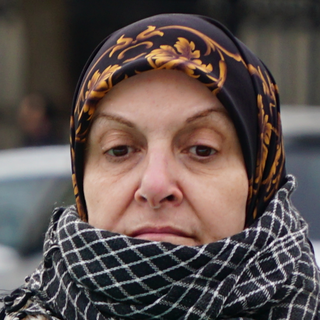eye: (179, 139, 225, 164), (101, 138, 144, 163)
